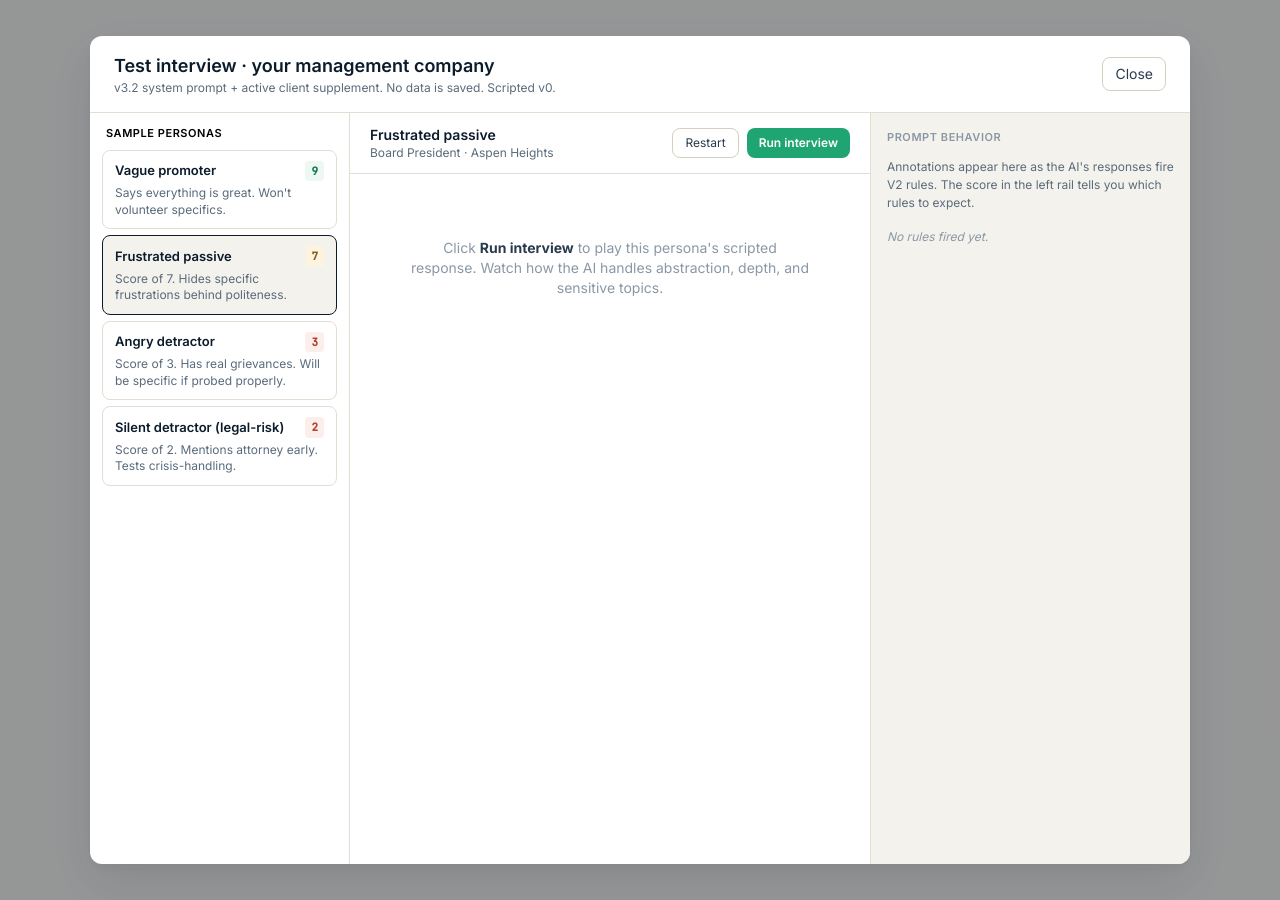
TestInterviewModal › starts the playback when Run is clicked
Click the button "Run interview". click: (798, 143)
box: [747,128,850,158]
Wait 250 ms
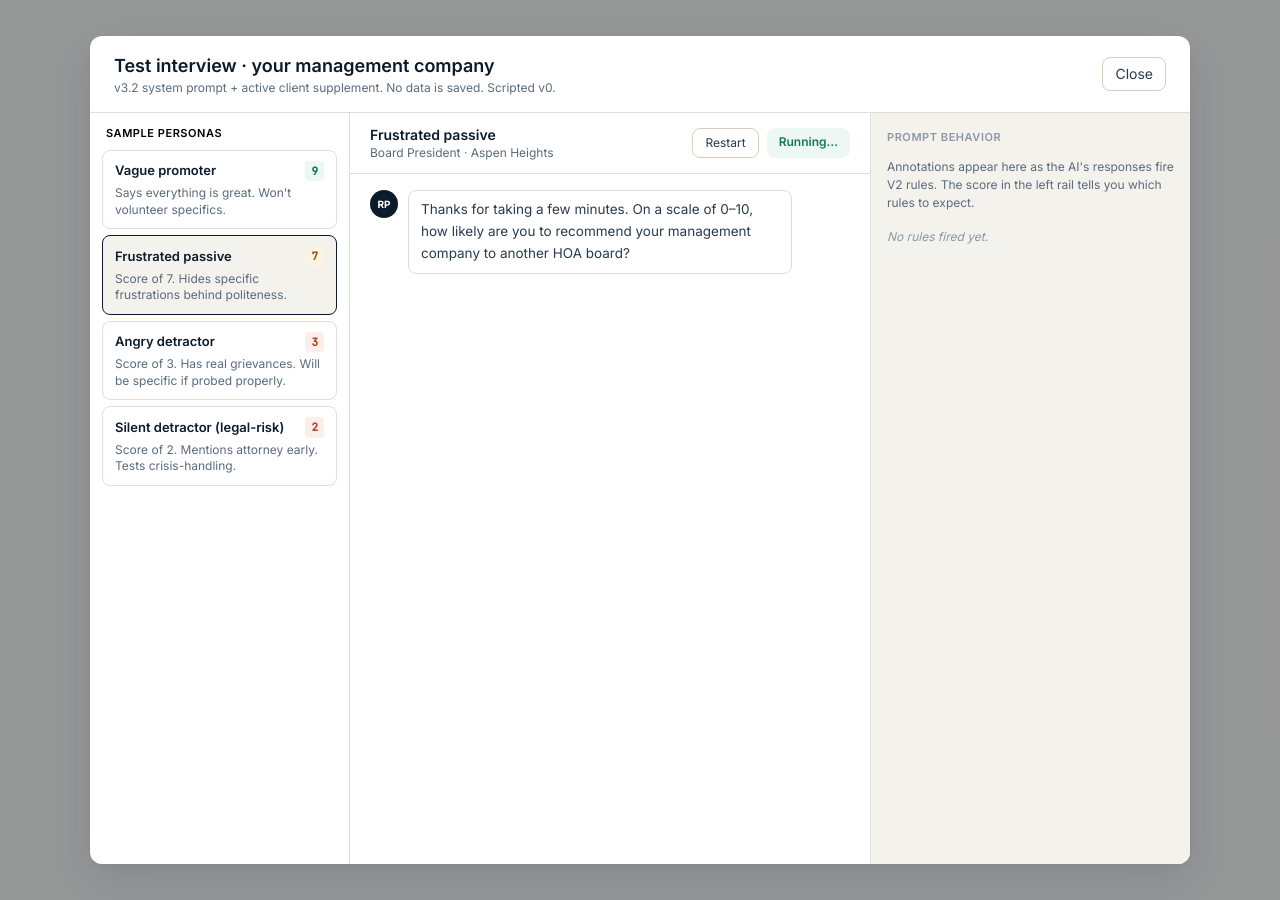
Check: the text "Thanks for taking a few minutes" is shown, box [421,201,753,261]
